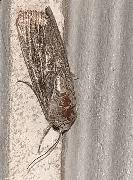army worm adult: (13, 4, 84, 177)
